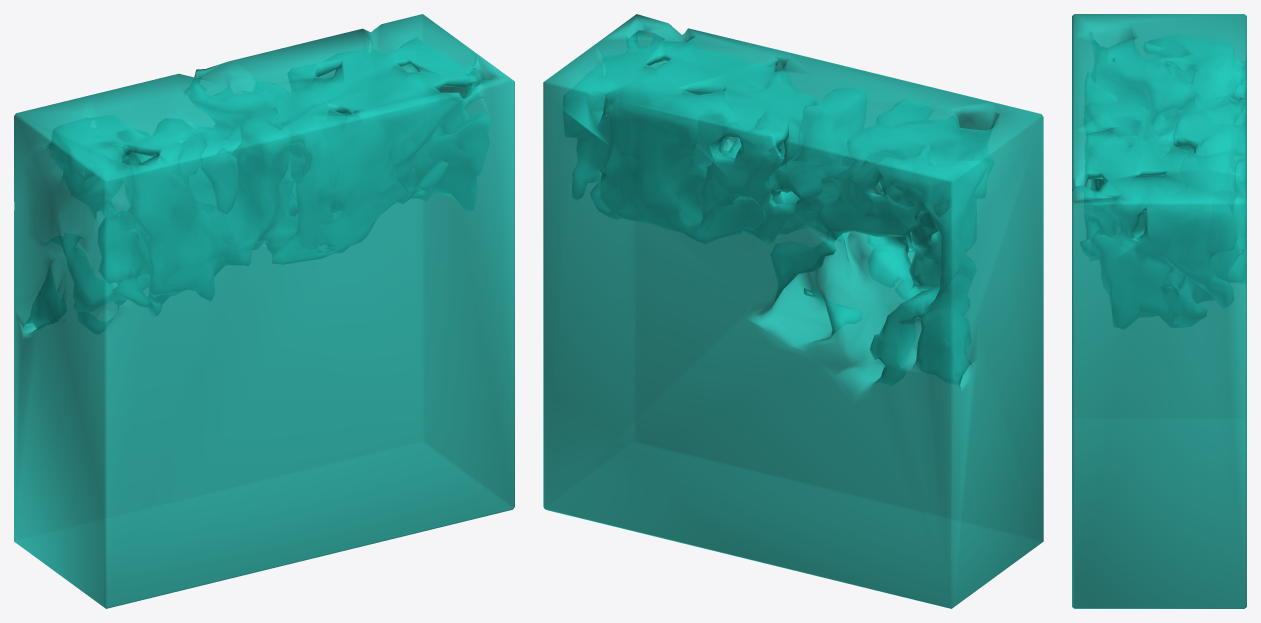
The picture shows the model from 3 angles, left to right: view 1: azimuth 30°, elevation 25°; view 2: azimuth 150°, elevation 25°; view 3: azimuth 270°, elevation 25°; orthographic projection. The views are drawn at different scales.
Parts seen in each view (by area): view 1: Liquid_Domain; view 2: Liquid_Domain; view 3: Liquid_Domain.
Part boxes in pixels (x1=…): Liquid_Domain: x1=14, y1=14, x2=514, y2=608; Liquid_Domain: x1=543, y1=14, x2=1043, y2=608; Liquid_Domain: x1=1072, y1=14, x2=1246, y2=608.
Size of the model in its own units: 884 by 884 by 344.
